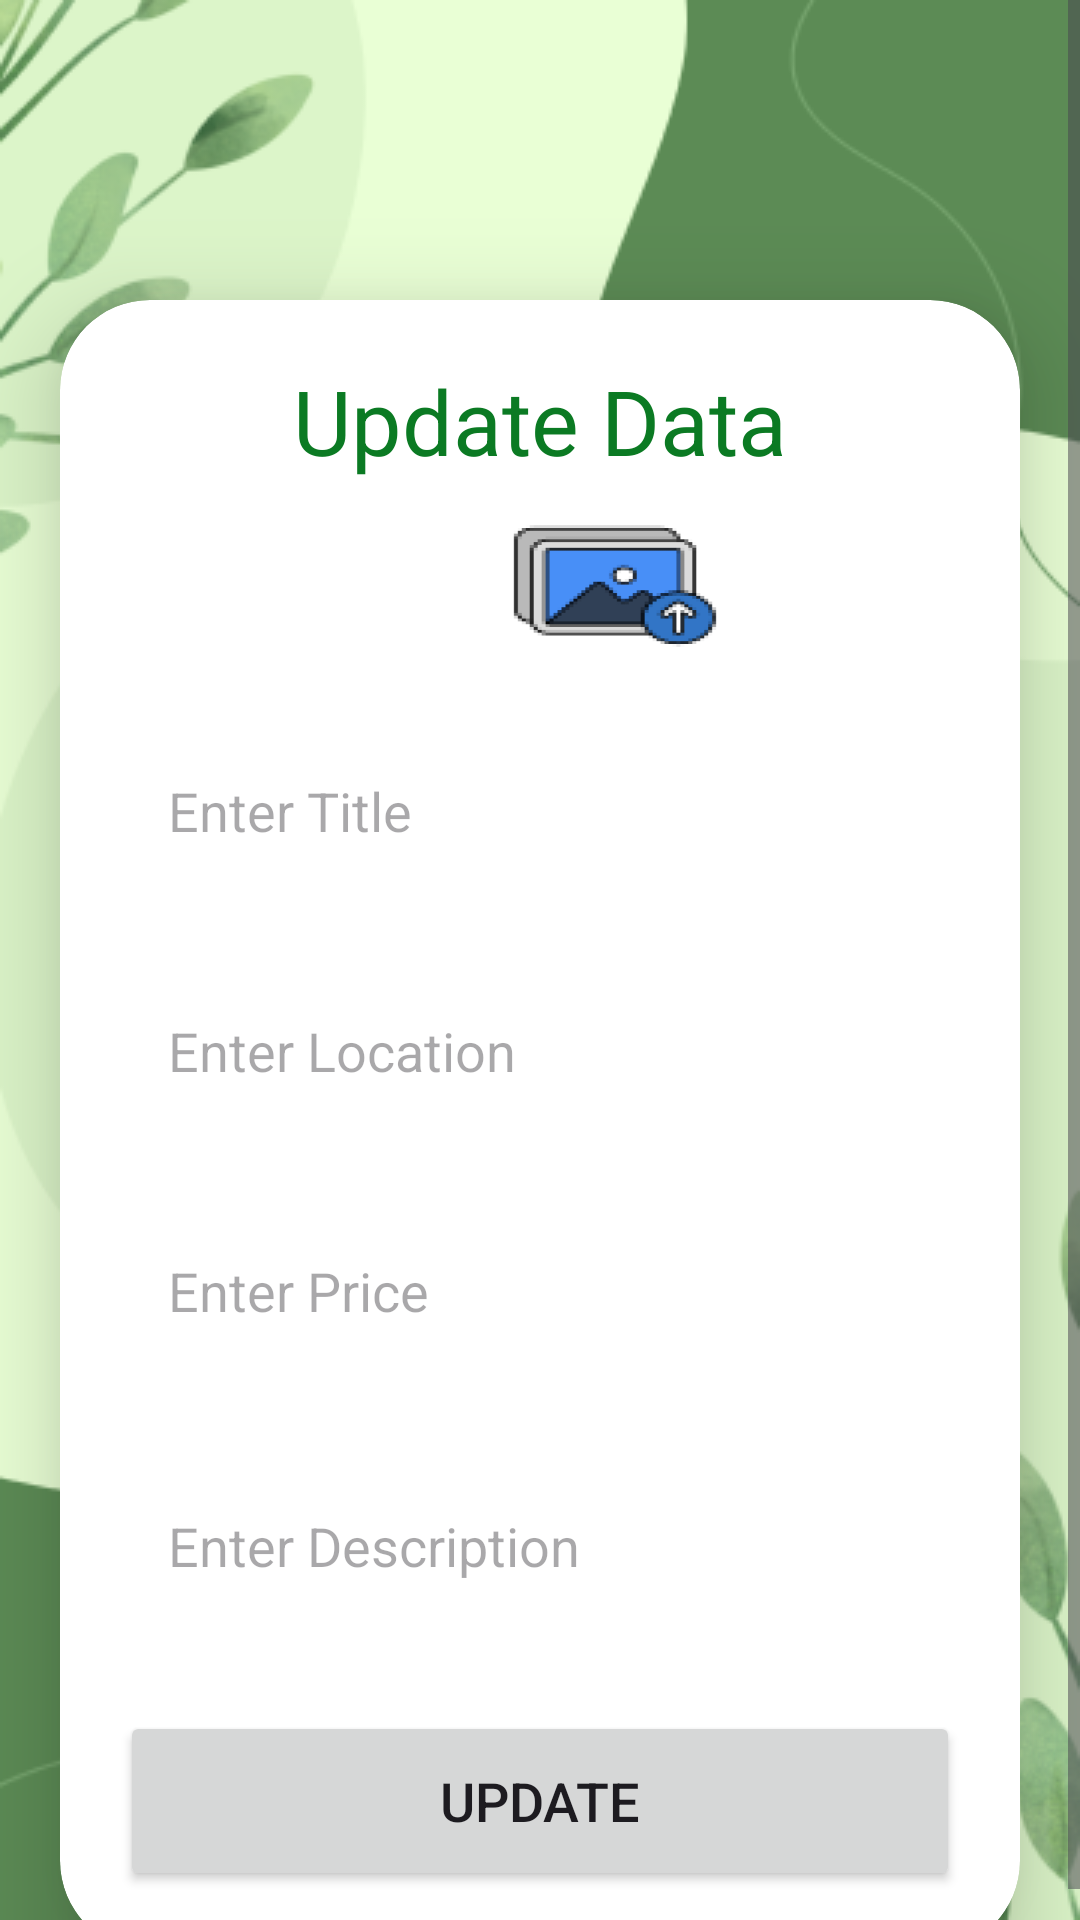

Locate icon controls on the screen. Image size 1080px×1920px, boxes as (left=x1, top=y1, right=x2, bottom=y2).
uploadphoto: (left=513, top=525, right=717, bottom=644)
